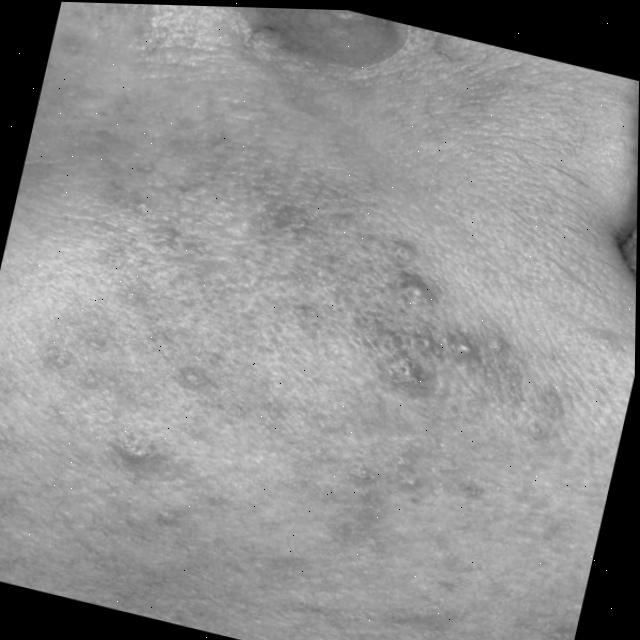Rosacea: (6, 109, 598, 640)
